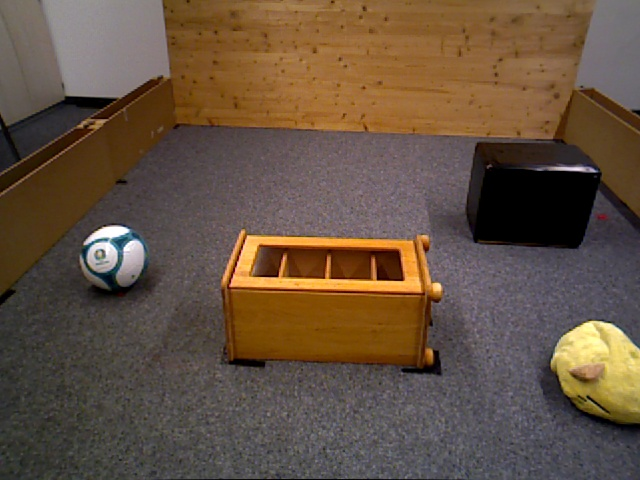grasp: (552, 318, 640, 424)
kick: (79, 222, 149, 294)
push: (473, 142, 602, 251)
